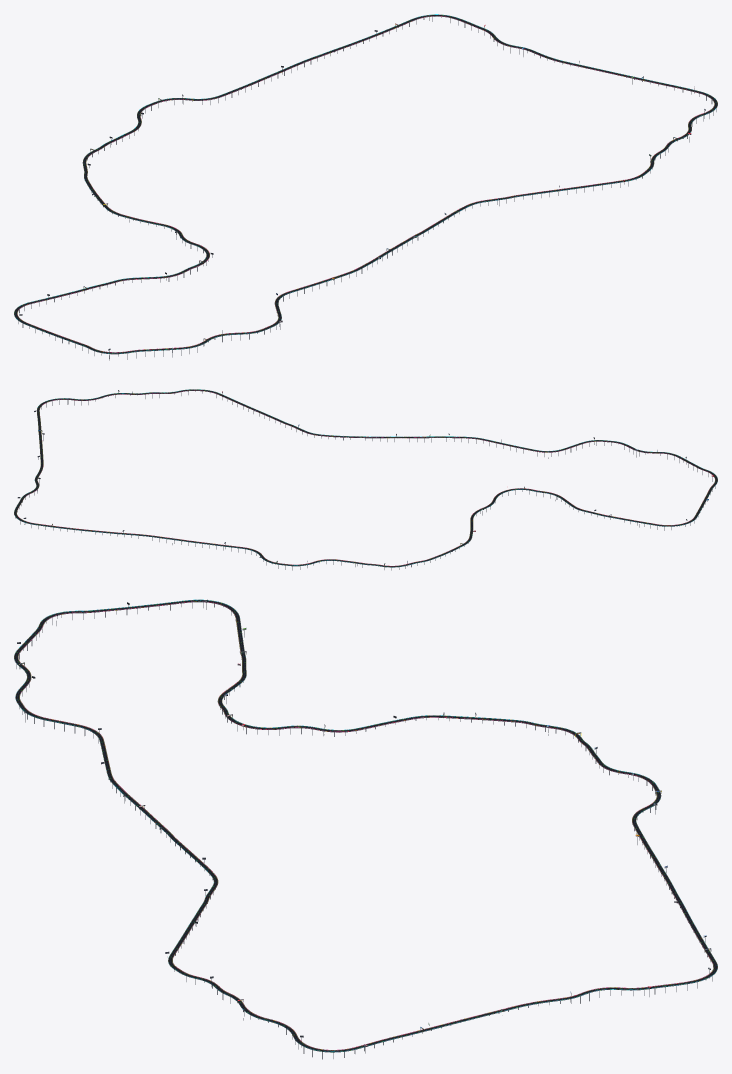
The model's file is track.glb.
3 views of the same model, one above another, from view 1: azimuth 30°, elevation 25°; view 2: azimuth 150°, elevation 25°; view 3: azimuth 270°, elevation 25° (orthographic). The views are drawn at different scales.
Visible parts, largest first — view 1: track_surface, track_barriers, track_under, pylons; view 2: track_surface, track_barriers, pylons, track_under; view 3: track_surface, track_barriers, track_under, pylons.
Boxes of the visible parts, <box> form: track_surface: <box>14,15,717,353</box>; track_barriers: <box>15,14,717,353</box>; track_under: <box>18,16,716,354</box>; pylons: <box>18,17,716,360</box>; track_surface: <box>14,389,717,566</box>; track_barriers: <box>14,389,716,567</box>; pylons: <box>15,391,715,570</box>; track_under: <box>16,389,715,567</box>; track_surface: <box>14,600,717,1051</box>; track_barriers: <box>15,599,717,1052</box>; track_under: <box>14,600,716,1052</box>; pylons: <box>16,602,713,1059</box>.
Bounding box in the file's own units: 3991 × 71.38 × 2622.
Materials: 49 (39 with a texture image).
